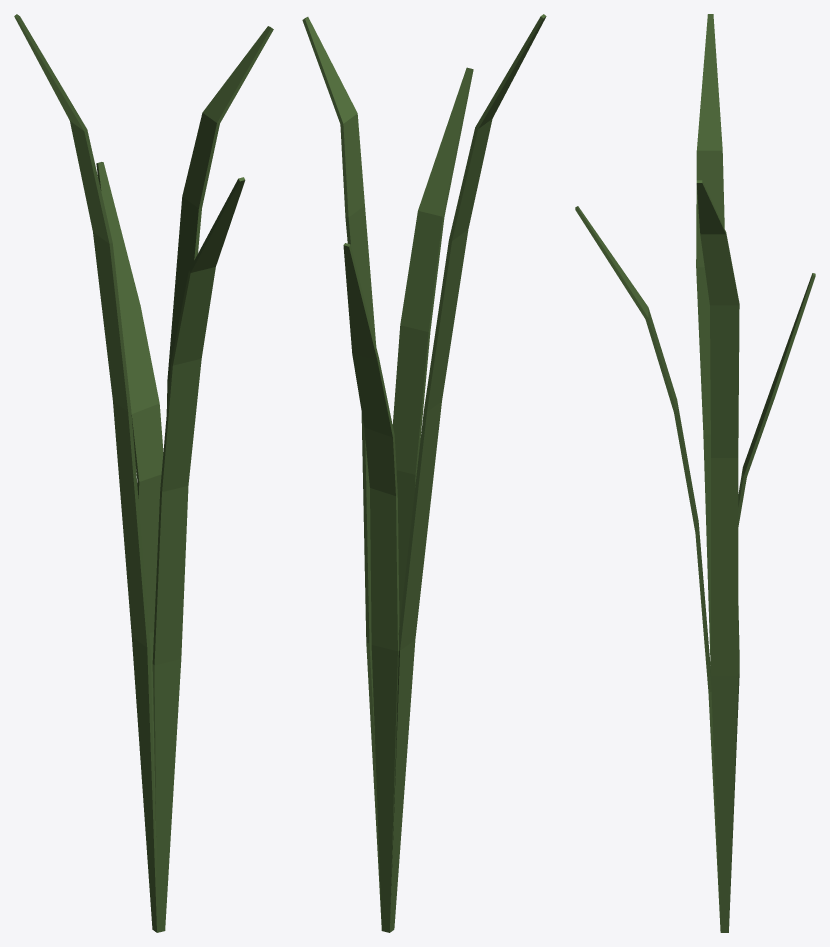
The model's file is RicePlant.fbx.
The picture shows the model from 3 angles, left to right: view 1: azimuth 30°, elevation 25°; view 2: azimuth 150°, elevation 25°; view 3: azimuth 270°, elevation 25°; orthographic projection. The views are drawn at different scales.
Visible parts, largest first — view 1: Plane; view 2: Plane; view 3: Plane.
Boxes of the visible parts, x1,y1,x2,y2 form: Plane: (14,14,273,932); Plane: (302,14,546,932); Plane: (575,14,815,932).
Size of the model in its own units: 23.16 by 84.58 by 21.62.
